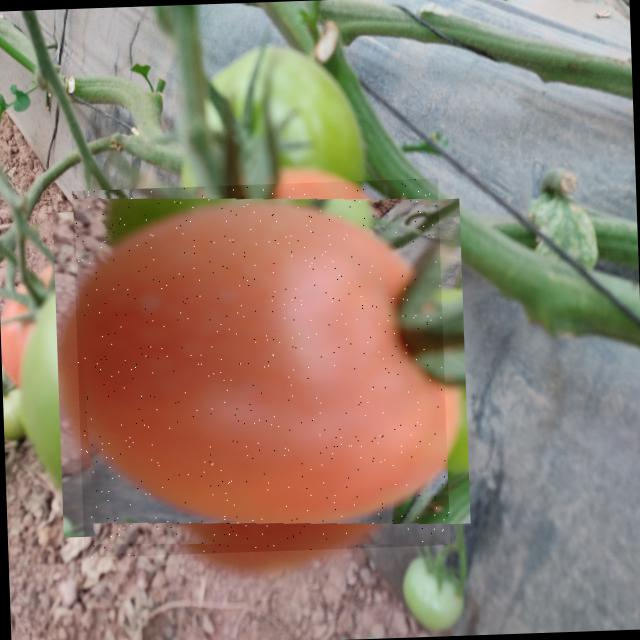Ripe Tomato: (71, 178, 450, 558)
